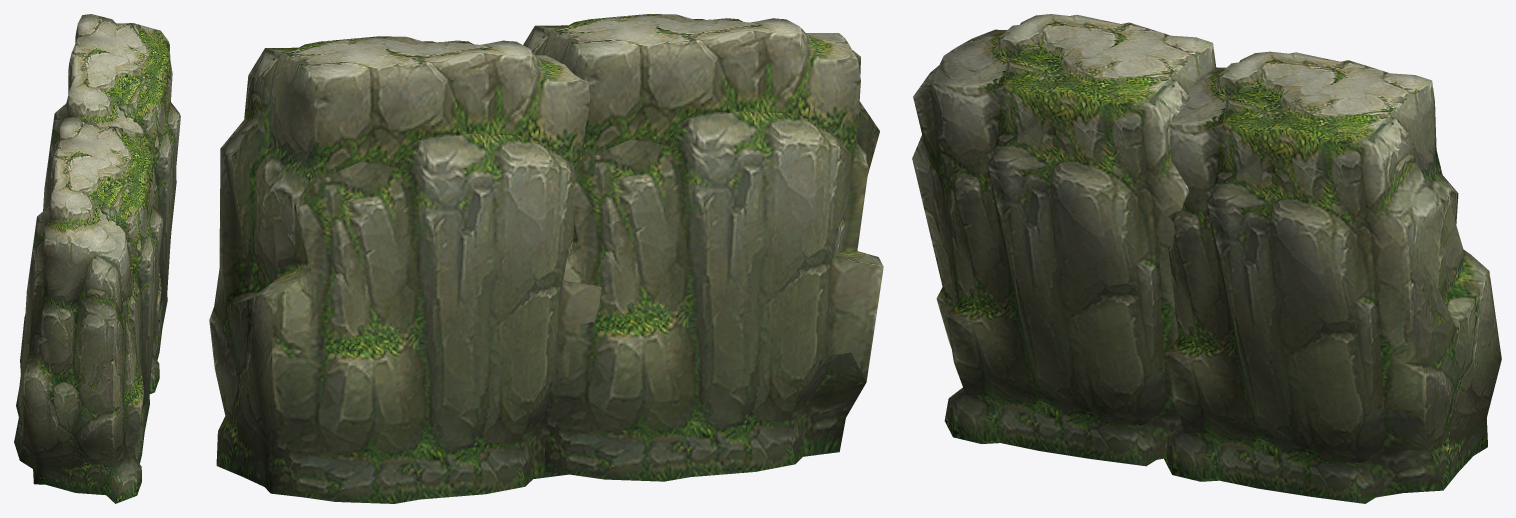
File: 4004_Item_shitou_10.FBX
The picture shows the model from 3 angles, left to right: view 1: azimuth 30°, elevation 25°; view 2: azimuth 150°, elevation 25°; view 3: azimuth 270°, elevation 25°; orthographic projection. The views are drawn at different scales.
Parts seen in each view (by area): view 1: 4004_Item_shitou_10; view 2: 4004_Item_shitou_10; view 3: 4004_Item_shitou_10.
Boxes of the visible parts, bbox=[...] form: 4004_Item_shitou_10: bbox=[14, 14, 180, 503]; 4004_Item_shitou_10: bbox=[209, 14, 883, 503]; 4004_Item_shitou_10: bbox=[912, 14, 1501, 503].
Bounding box in the file's own units: 1143 × 1210 × 1477.
